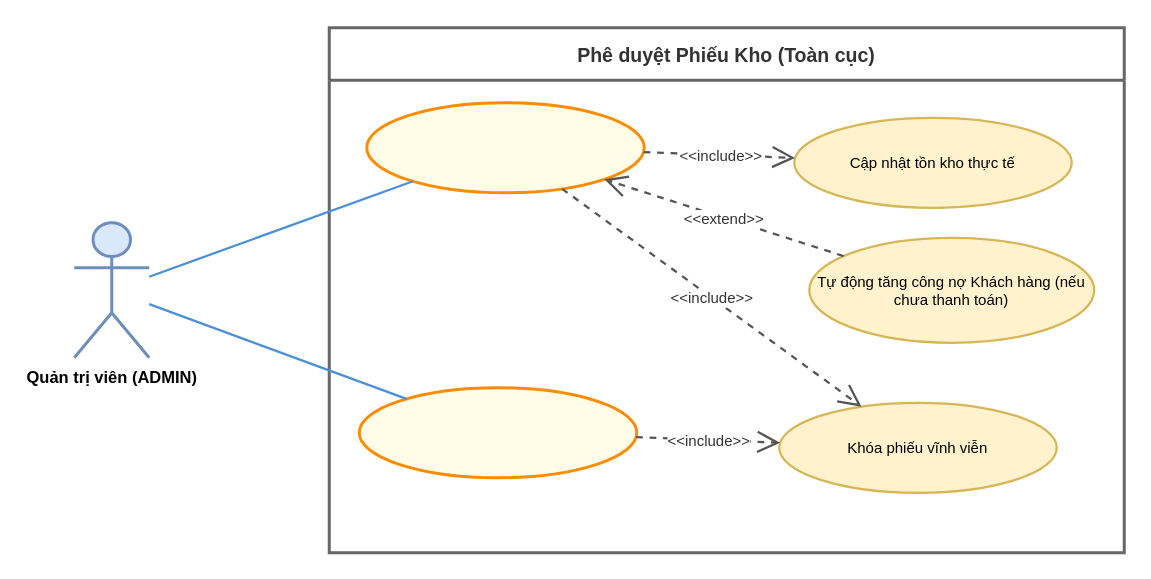
This 1151x579 diagram has some shape labels left out. Here are the shapes that lost their labels. From the top down, the centre of each, then its label:
At pixel 504 147: "Phê duyệt phiếu kho (DRAFT → COMPLETED)".
At pixel 497 432: "Từ chối/Hủy phiếu kho".
